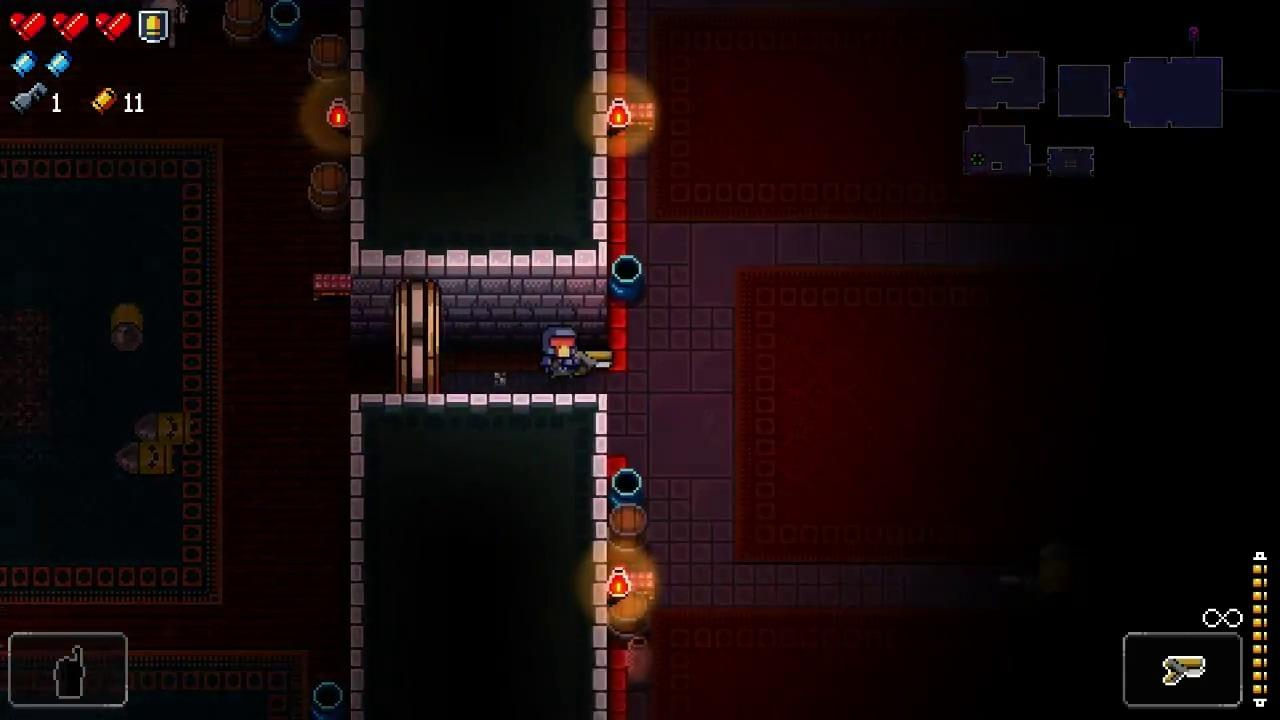dead_bullet_kin: (117, 442, 176, 475), (136, 414, 195, 445), (111, 303, 143, 353)
locked_door: (396, 277, 440, 394)
player: (541, 324, 579, 379)
